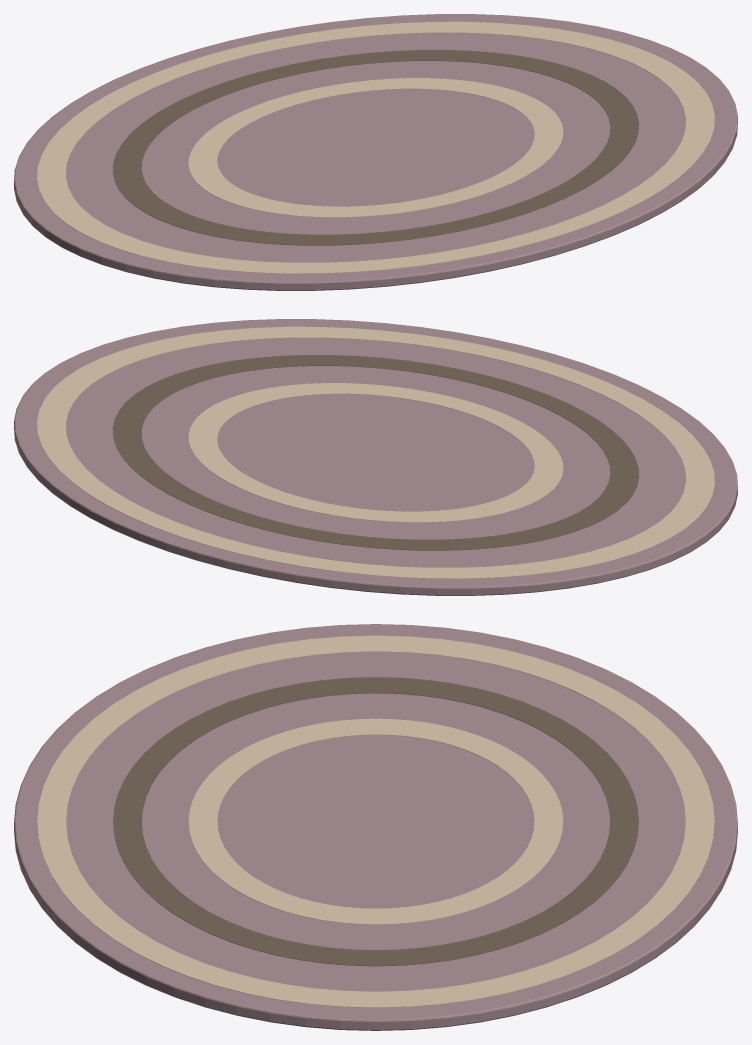
The model's file is ovalrug.glb.
3 renders of one model, top to bottom at view 1: azimuth 30°, elevation 25°; view 2: azimuth 150°, elevation 25°; view 3: azimuth 270°, elevation 25°, orthographic. The views are drawn at different scales.
Visible parts, largest first — view 1: closed-textile-backing, braided-oval-band-0, braided-oval-band-1, braided-oval-band-2; view 2: closed-textile-backing, braided-oval-band-0, braided-oval-band-1, braided-oval-band-2; view 3: closed-textile-backing, braided-oval-band-0, braided-oval-band-1, braided-oval-band-2.
Boxes of the visible parts, x1,y1,x2,y2 form: closed-textile-backing: [14, 14, 737, 290]; braided-oval-band-0: [37, 21, 714, 273]; braided-oval-band-1: [112, 50, 639, 245]; braided-oval-band-2: [188, 78, 563, 217]; closed-textile-backing: [14, 319, 737, 595]; braided-oval-band-0: [37, 326, 714, 578]; braided-oval-band-1: [112, 355, 639, 550]; braided-oval-band-2: [188, 383, 563, 522]; closed-textile-backing: [14, 624, 737, 1030]; braided-oval-band-0: [37, 635, 714, 1007]; braided-oval-band-1: [113, 677, 638, 966]; braided-oval-band-2: [188, 718, 563, 924].
Bounding box in the file's own units: 2.18 × 0.0295 × 1.68.
